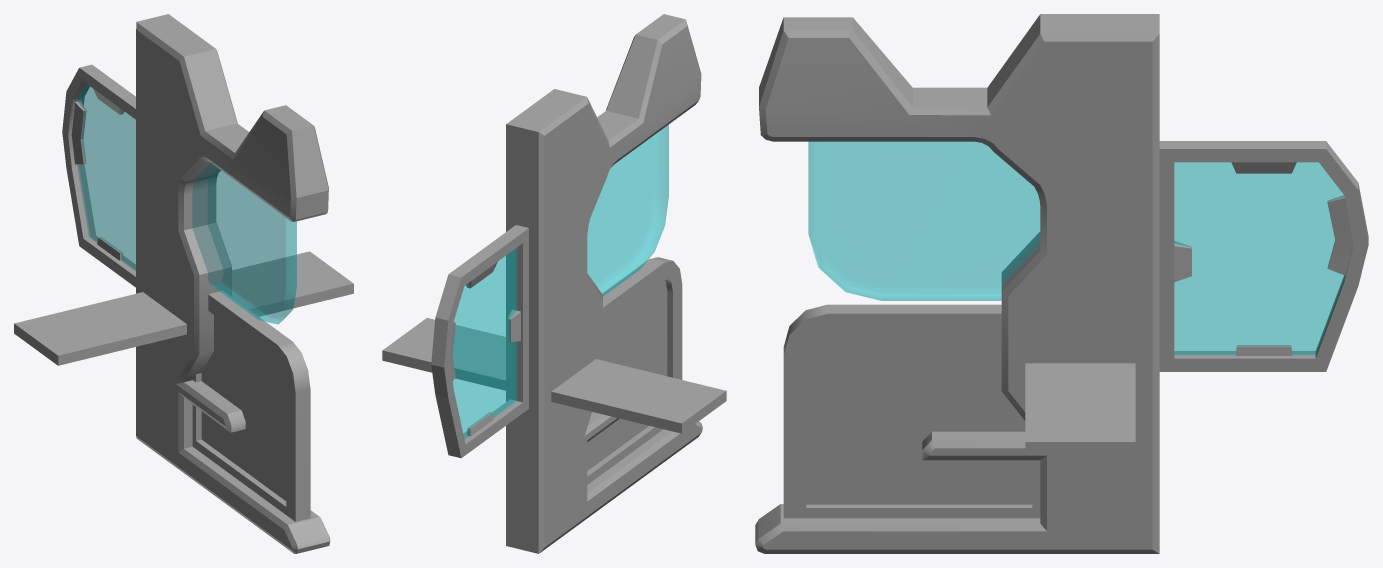
Rendered from Indoor_Divider.fbx.
3 views of the same model, side by side, from view 1: azimuth 30°, elevation 25°; view 2: azimuth 150°, elevation 25°; view 3: azimuth 270°, elevation 25° (orthographic). The views are drawn at different scales.
Parts seen in each view (by area): view 1: Indoor_Divider; view 2: Indoor_Divider; view 3: Indoor_Divider.
Boxes of the visible parts, x1=… form: Indoor_Divider: x1=14, y1=14, x2=353, y2=553; Indoor_Divider: x1=382, y1=14, x2=726, y2=553; Indoor_Divider: x1=755, y1=14, x2=1368, y2=553.
Size of the model in its own units: 193 by 260 by 278.
